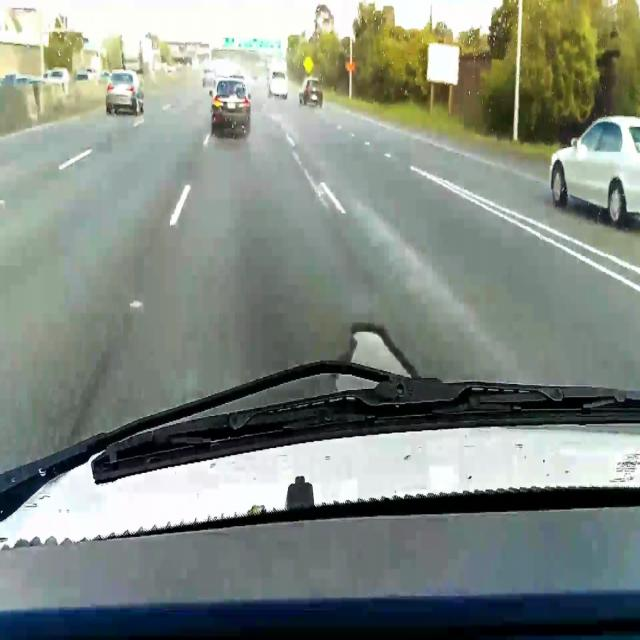Pothole: (334, 322, 419, 392)
